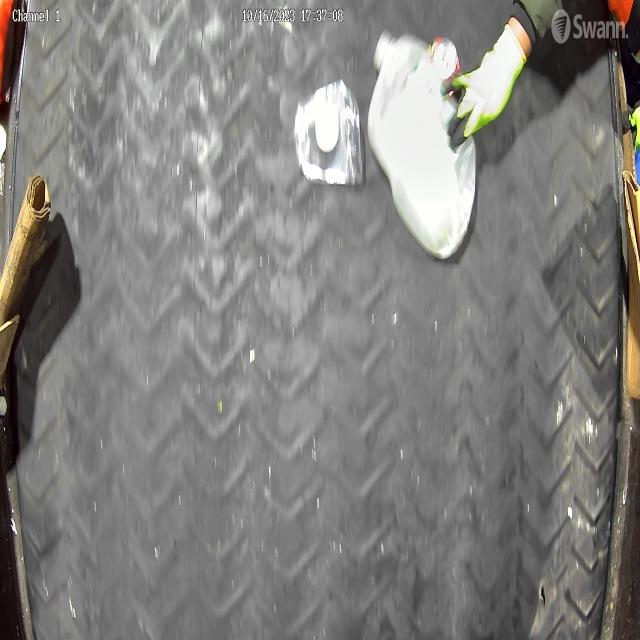milk_jug: (368, 29, 474, 250), (428, 36, 462, 78)
